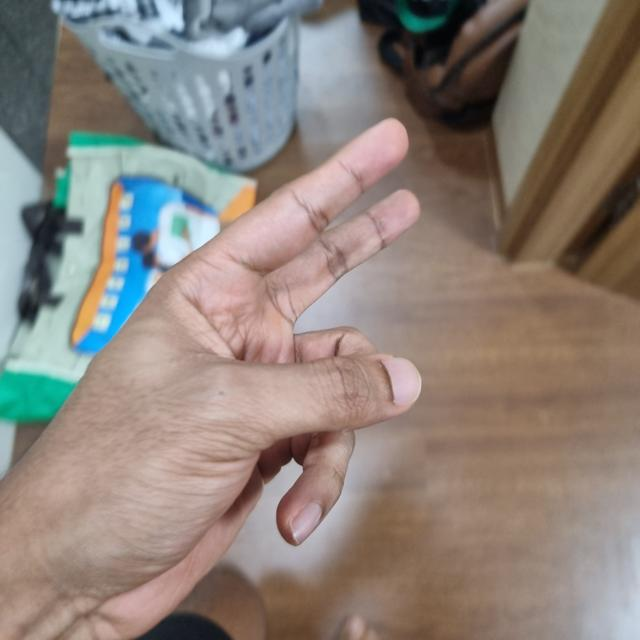Scissors: (2, 126, 420, 637)
